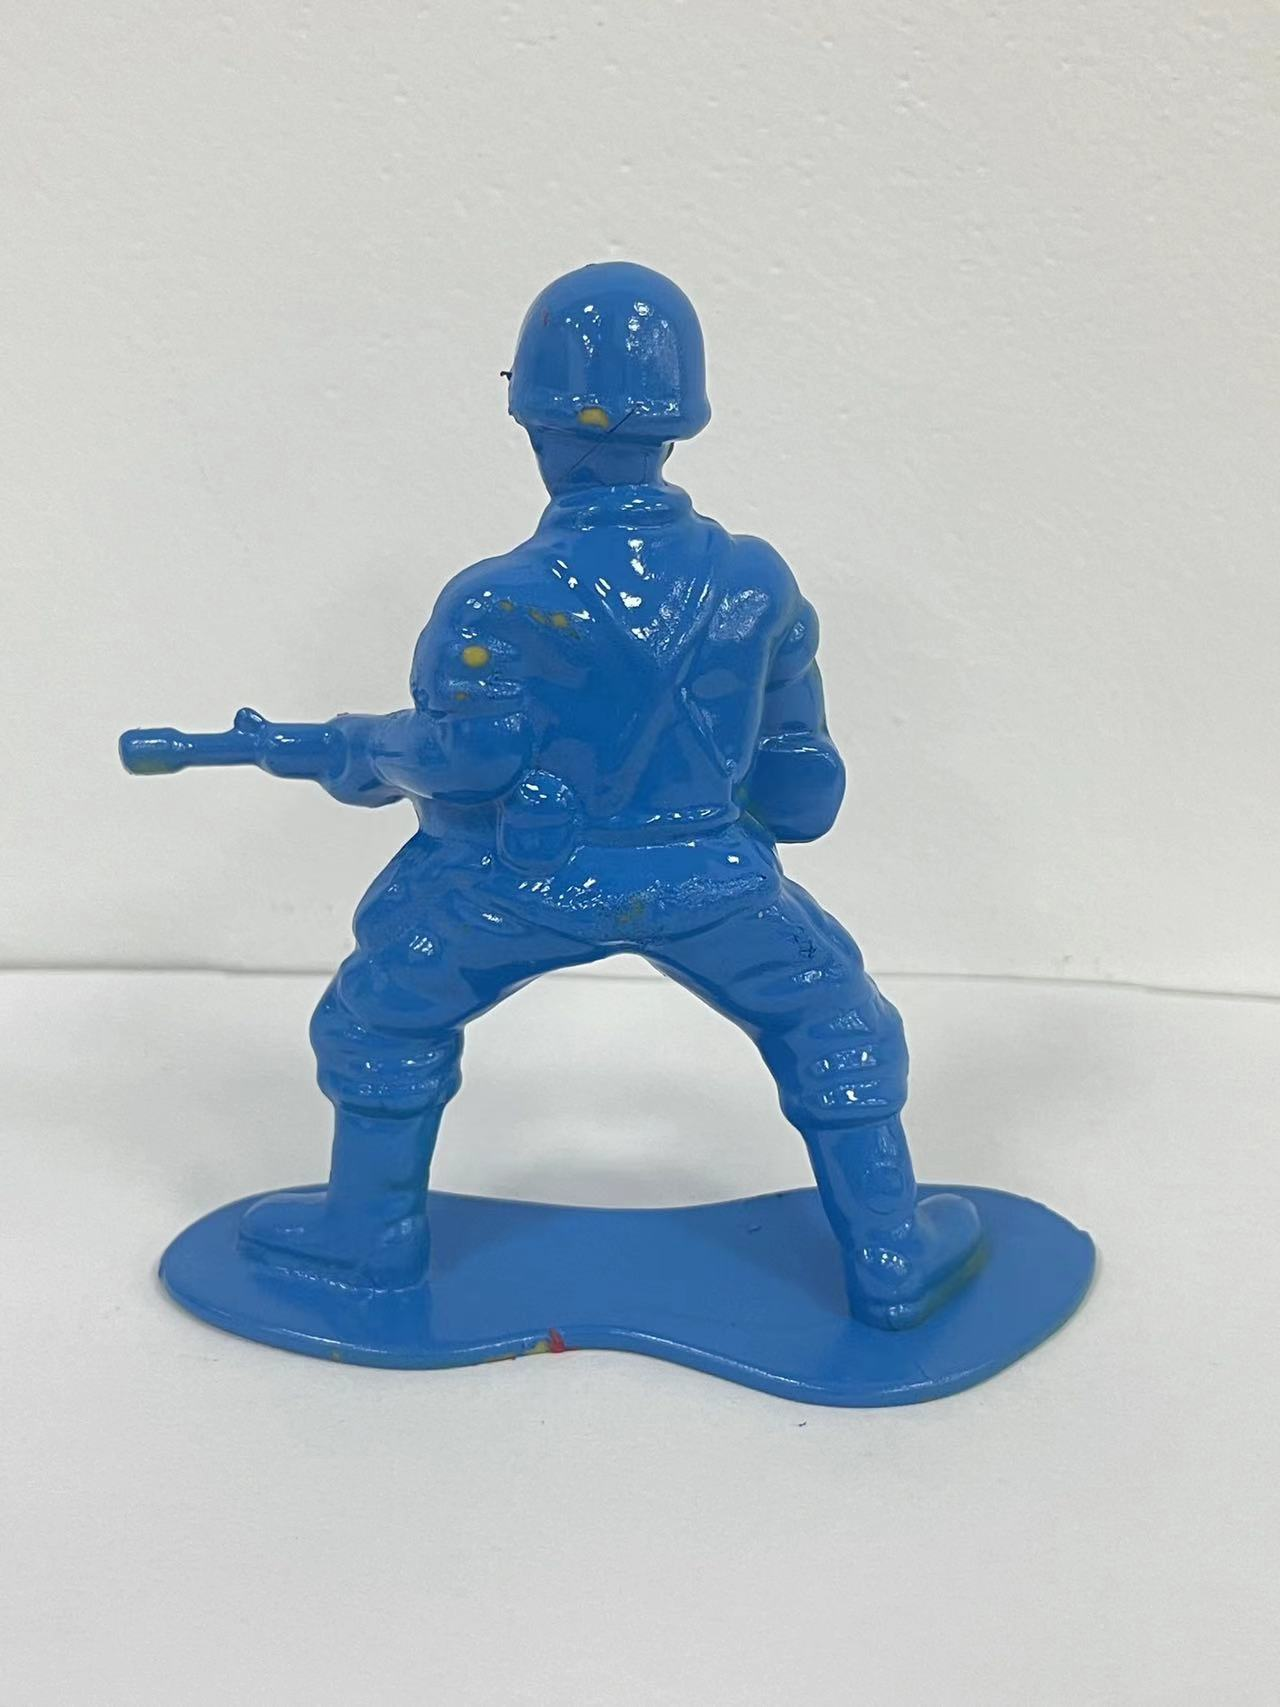blue: (61, 233, 1148, 1505)
